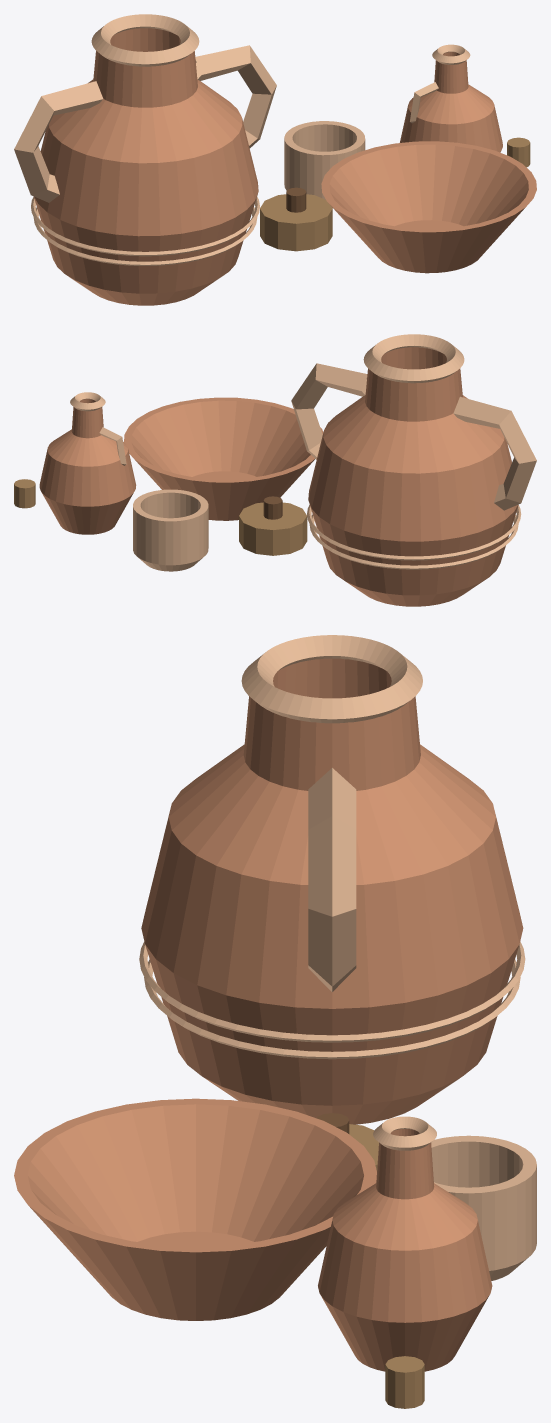
3 renders of one model, top to bottom at view 1: azimuth 30°, elevation 25°; view 2: azimuth 150°, elevation 25°; view 3: azimuth 270°, elevation 25°, orthographic. The views are drawn at different scales.
Parts seen in each view (by area): view 1: BA-0051 batched; view 2: BA-0051 batched; view 3: BA-0051 batched.
Part boxes in pixels (x1,y1,x2,y2): BA-0051 batched: (14, 14, 536, 305); BA-0051 batched: (14, 334, 536, 606); BA-0051 batched: (14, 635, 536, 1408).
Bounding box in the file's own units: 1.15 × 0.5048 × 0.575.
